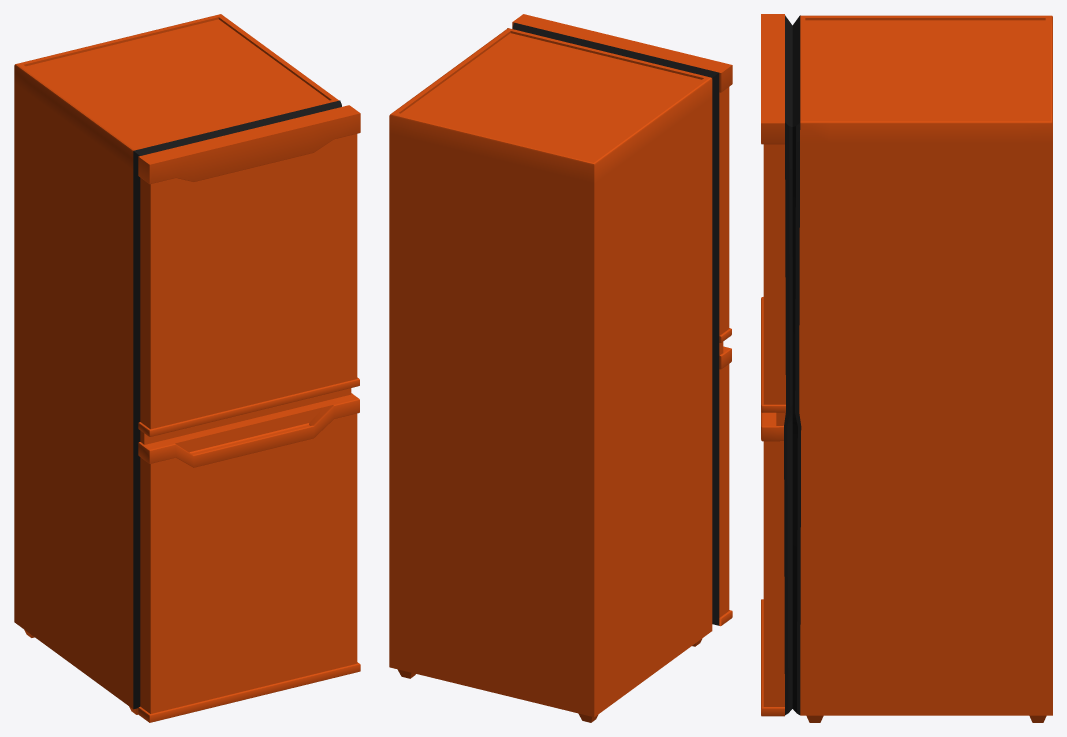
File: Fridge PND.fbx
3 renders of one model, left to right at view 1: azimuth 30°, elevation 25°; view 2: azimuth 150°, elevation 25°; view 3: azimuth 270°, elevation 25°, orthographic. The views are drawn at different scales.
Visible parts, largest first — view 1: Fridge; view 2: Fridge; view 3: Fridge.
Boxes of the visible parts, box(x1,y1,x2,y2) form: Fridge: box(14, 14, 360, 722); Fridge: box(389, 14, 732, 722); Fridge: box(761, 14, 1052, 722).
Bounding box in the file's own units: 51 × 132 × 57.5.
